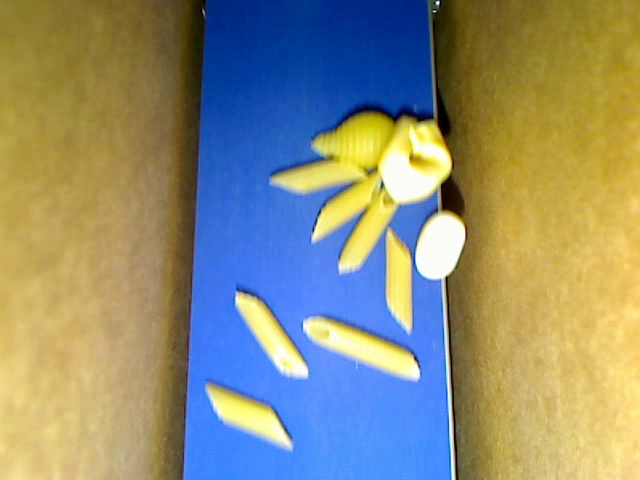penne: (300, 313, 421, 381), (233, 289, 308, 378), (203, 381, 293, 450), (336, 188, 399, 275), (310, 170, 381, 244), (269, 158, 369, 196), (386, 226, 413, 335)
shell: (310, 110, 399, 173)
tortellini: (378, 116, 452, 206)
